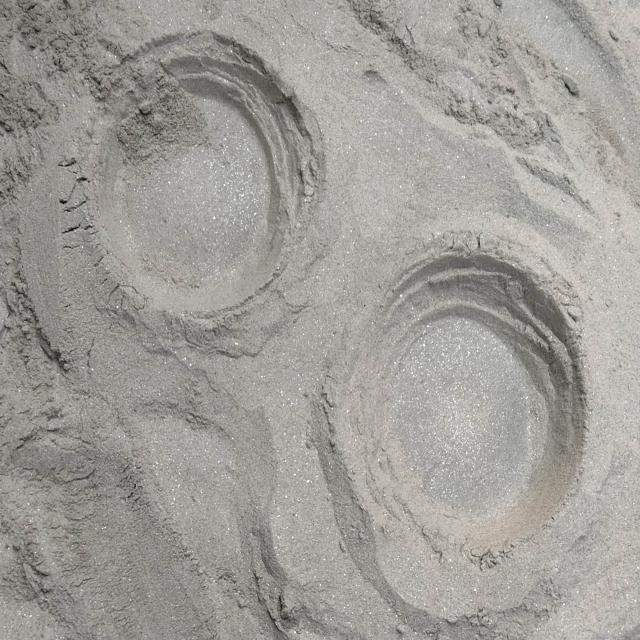C20: (348, 252, 587, 562), (86, 37, 315, 317)
